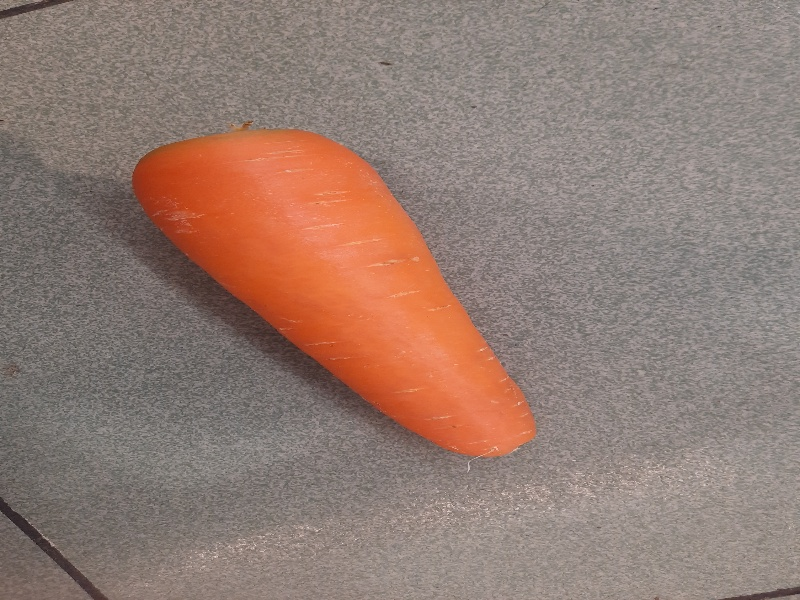vege: (128, 128, 541, 466)
